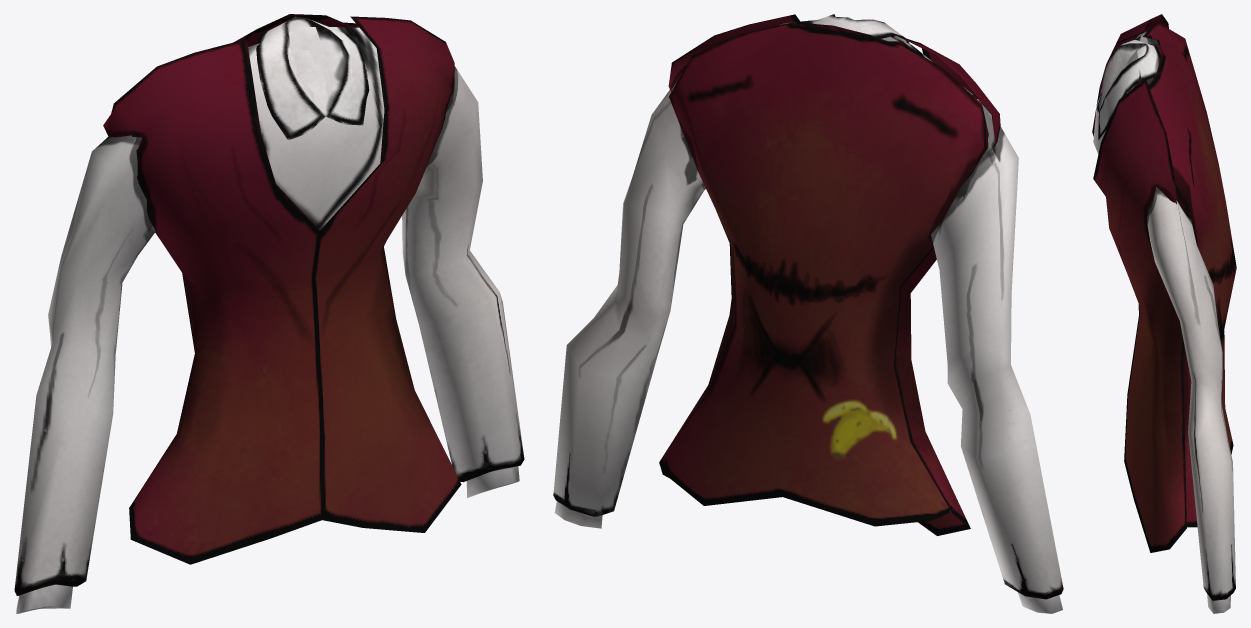
Rendered from uniform.fbx.
The picture shows the model from 3 angles, left to right: view 1: azimuth 30°, elevation 25°; view 2: azimuth 150°, elevation 25°; view 3: azimuth 270°, elevation 25°; orthographic projection. The views are drawn at different scales.
Parts seen in each view (by area): view 1: Alex tibia_dress; view 2: Alex tibia_dress; view 3: Alex tibia_dress.
Part boxes in pixels (x1,y1,x2,y2): Alex tibia_dress: (14,14,524,613); Alex tibia_dress: (553,14,1063,613); Alex tibia_dress: (1092,14,1236,613).
Bounding box in the file's own units: 61.99 × 63.79 × 17.9.
Materials: 1 (1 with a texture image).
